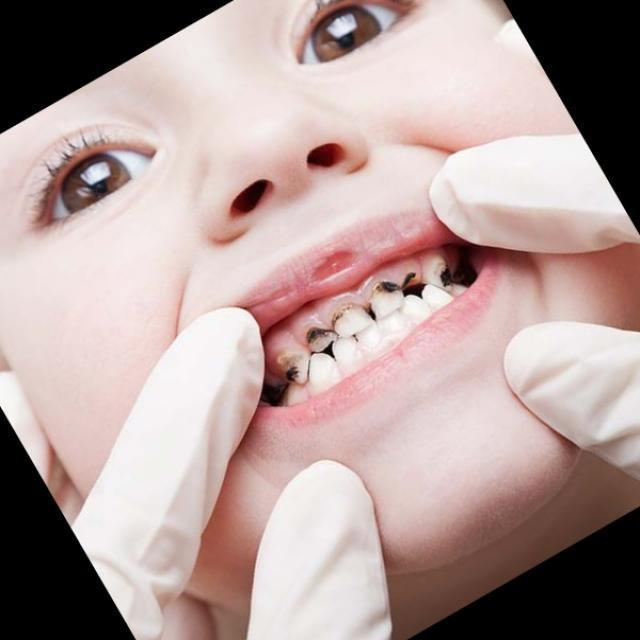Cavity: (272, 341, 316, 391), (327, 297, 373, 343), (291, 321, 335, 368), (363, 277, 408, 319), (425, 255, 457, 299), (252, 375, 286, 411), (450, 252, 479, 288), (396, 265, 424, 292)
